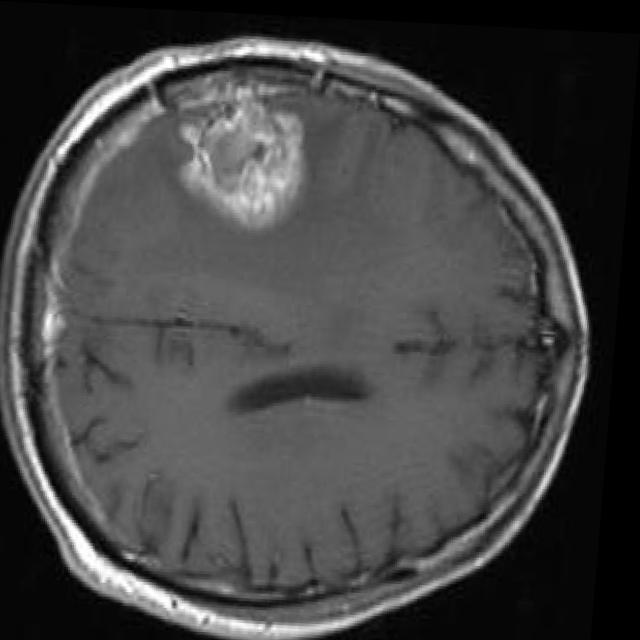Tumor: (181, 73, 312, 234)
